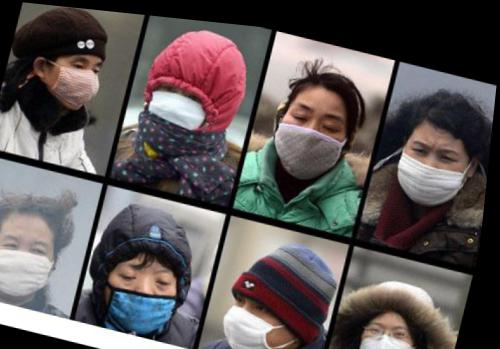OK: (271, 88, 355, 180), (393, 122, 473, 204), (223, 271, 302, 349), (1, 220, 67, 303), (145, 67, 216, 141), (358, 301, 427, 349)
WRONG: (102, 242, 192, 338), (40, 41, 107, 117)
